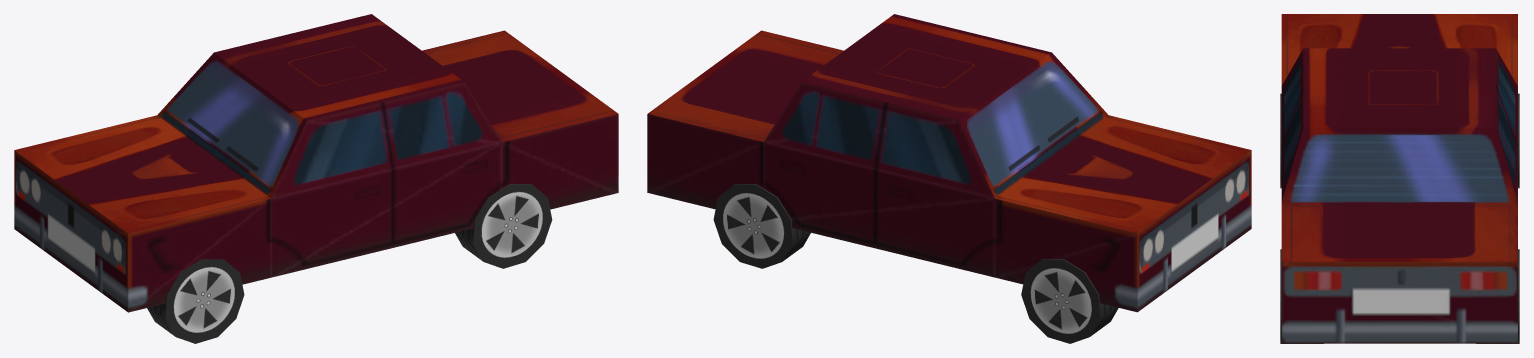
Rendered from avto_6.FBX.
3 views of the same model, side by side, from view 1: azimuth 30°, elevation 25°; view 2: azimuth 150°, elevation 25°; view 3: azimuth 270°, elevation 25° (orthographic). The views are drawn at different scales.
Visible parts, largest first — view 1: car006, Cylinder037, Cylinder036; view 2: car006, Cylinder034, Cylinder035; view 3: car006, Cylinder034, Cylinder036, Cylinder035, Cylinder037.
Part boxes in pixels (x1,y1,x2,y2): car006: (14, 14, 618, 312); Cylinder037: (147, 259, 244, 343); Cylinder036: (455, 184, 552, 268); car006: (647, 14, 1251, 312); Cylinder034: (713, 184, 810, 268); Cylinder035: (1021, 259, 1118, 343); car006: (1281, 14, 1517, 343); Cylinder034: (1476, 249, 1519, 343); Cylinder036: (1280, 249, 1323, 343); Cylinder035: (1518, 93, 1519, 188); Cylinder037: (1280, 93, 1281, 188).
Bounding box in the file's own units: 3.1 × 1.12 × 1.26.
2 materials, 2 textured.
